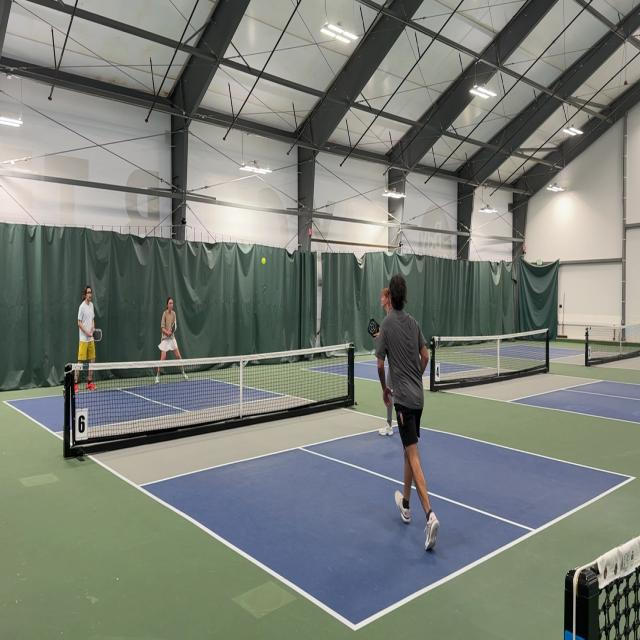ball: (261, 256, 266, 266)
